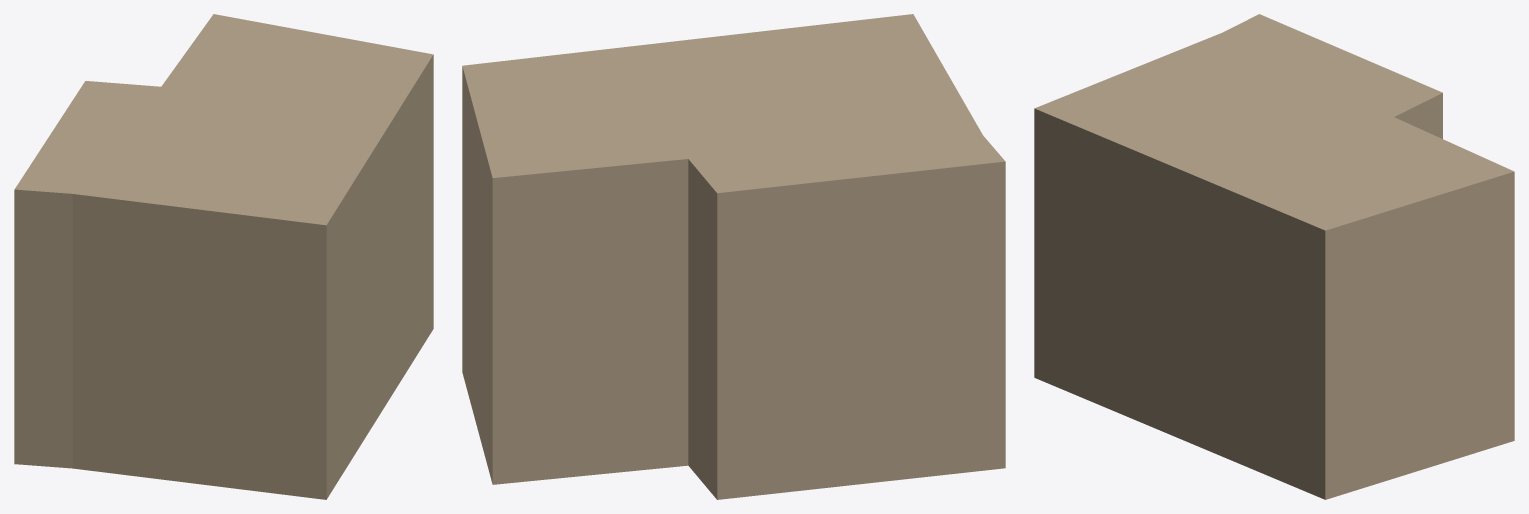
Rendered from bld_108162164.dae.
The picture shows the model from 3 angles, left to right: view 1: azimuth 30°, elevation 25°; view 2: azimuth 150°, elevation 25°; view 3: azimuth 270°, elevation 25°; orthographic projection. The views are drawn at different scales.
Parts seen in each view (by area): view 1: bld_108162164; view 2: bld_108162164; view 3: bld_108162164.
Part boxes in pixels (box(x1,y1,x2,y2)): bld_108162164: box(14, 14, 433, 499); bld_108162164: box(462, 14, 1005, 499); bld_108162164: box(1034, 14, 1514, 499).
Size of the model in its own units: 13.8 by 12.92 by 8.
